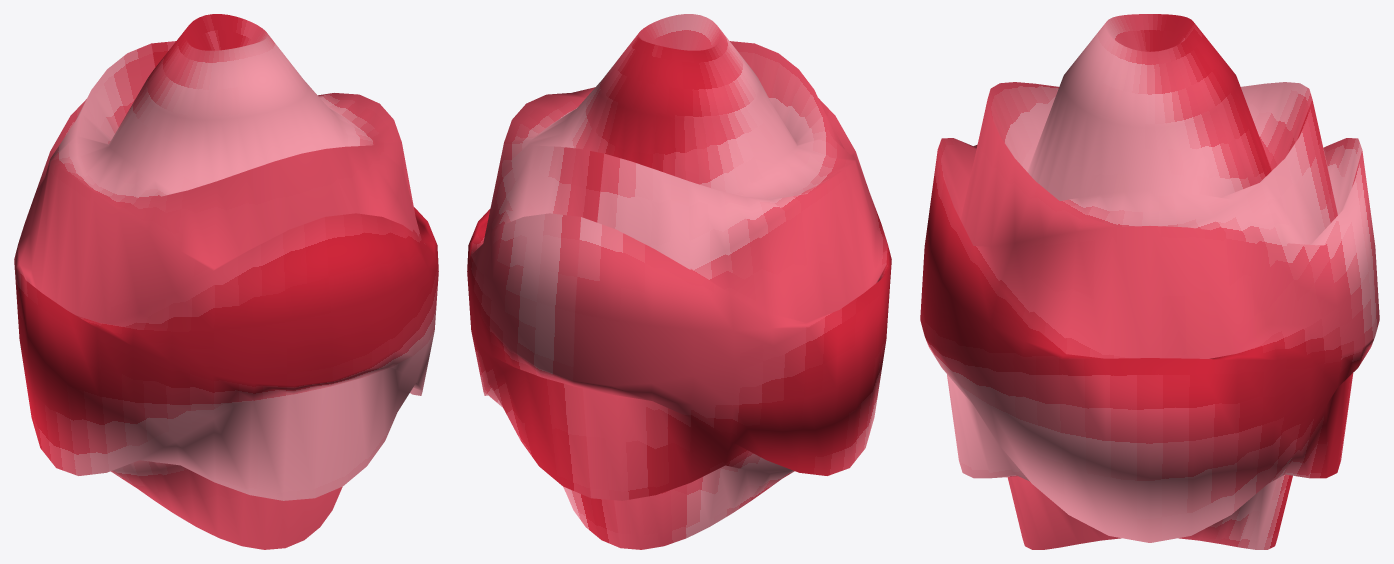
Rendered from StrawberryScoop.obj.
3 views of the same model, side by side, from view 1: azimuth 30°, elevation 25°; view 2: azimuth 150°, elevation 25°; view 3: azimuth 270°, elevation 25° (orthographic). The views are drawn at different scales.
Parts seen in each view (by area): view 1: Sphere001; view 2: Sphere001; view 3: Sphere001.
Boxes of the visible parts, bbox=[...] form: Sphere001: bbox=[14, 14, 438, 549]; Sphere001: bbox=[467, 14, 891, 549]; Sphere001: bbox=[920, 14, 1379, 549].
Size of the model in its own units: 1.18 by 1.45 by 1.18.
